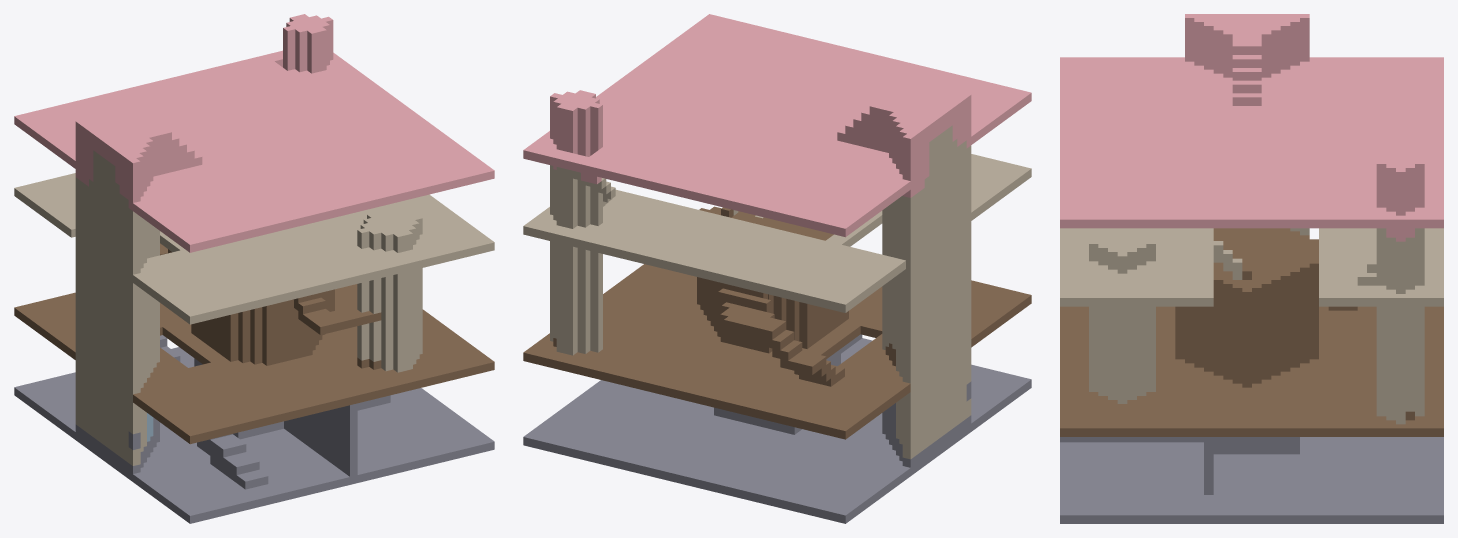
File: yurigame.obj
The picture shows the model from 3 angles, left to right: view 1: azimuth 30°, elevation 25°; view 2: azimuth 150°, elevation 25°; view 3: azimuth 270°, elevation 25°; orthographic projection. The views are drawn at different scales.
Size of the model in its own units: 4 by 4 by 4.
Materials: 1 (1 with a texture image).
